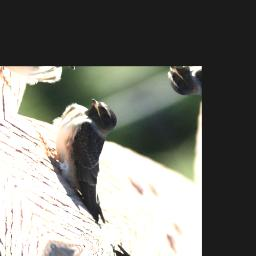Swallow: (26, 90, 168, 231)
